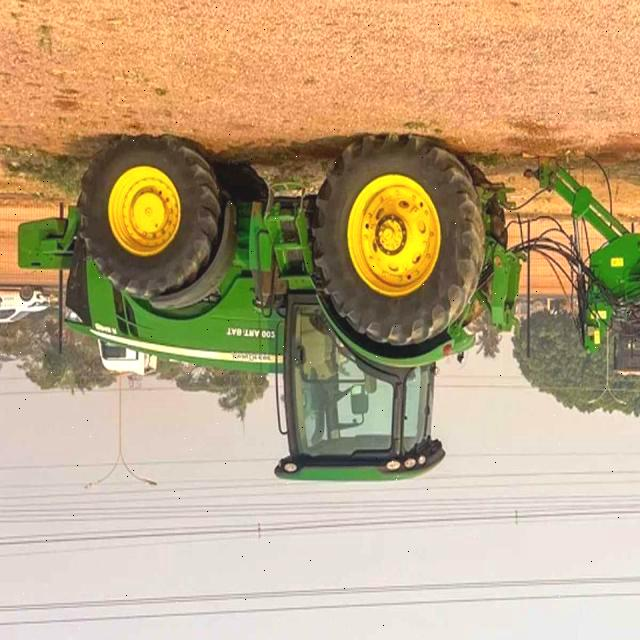Tratores - v5 YOLO V8L 2024-11-13: (24, 135, 506, 491)
